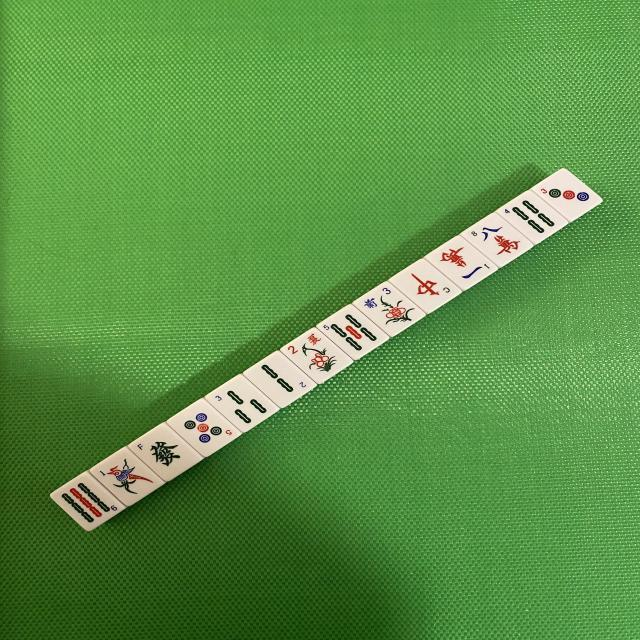bf3: (354, 279, 426, 342)
bs2: (283, 326, 351, 390)
hdg: (130, 422, 202, 485)
hdr: (392, 266, 458, 311)
sb1: (94, 446, 162, 512)
sb2: (245, 348, 315, 412)
sb3: (207, 372, 276, 437)
sb4: (499, 187, 566, 247)
sb5: (319, 304, 388, 366)
sb9: (52, 471, 123, 534)
sc1: (426, 238, 494, 288)
sc8: (460, 215, 528, 260)
sd3: (532, 168, 603, 226)
sd5: (167, 396, 239, 459)
